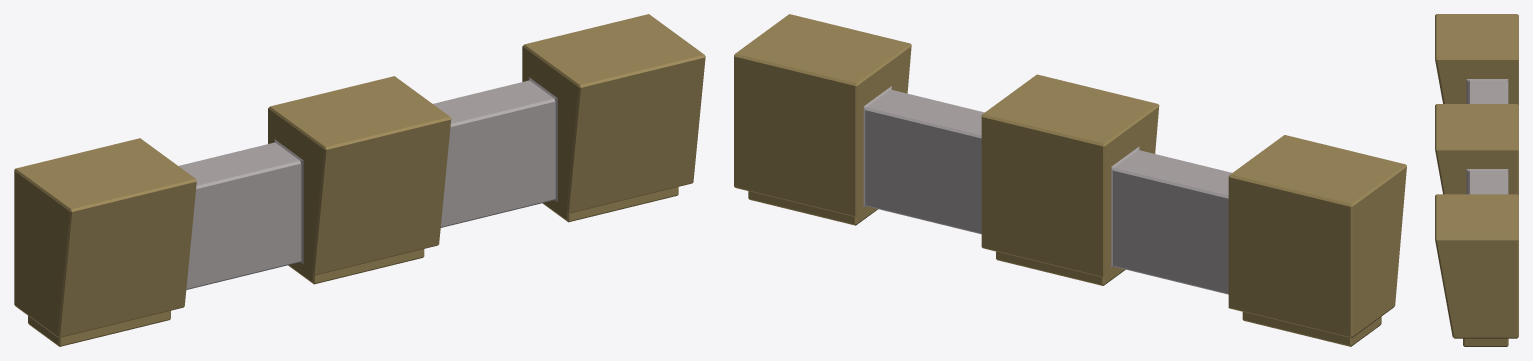
File: SM_LonDesk_02.fbx
3 renders of one model, left to right at view 1: azimuth 30°, elevation 25°; view 2: azimuth 150°, elevation 25°; view 3: azimuth 270°, elevation 25°, orthographic. The views are drawn at different scales.
Visible parts, largest first — view 1: 立方体.086; view 2: 立方体.086; view 3: 立方体.086.
Part boxes in pixels (left/top/right/bottom): 立方体.086: left=14, top=14, right=705, bottom=346; 立方体.086: left=734, top=14, right=1406, bottom=346; 立方体.086: left=1435, top=14, right=1518, bottom=346.
Bounding box in the file's own units: 646 × 149 × 102.
